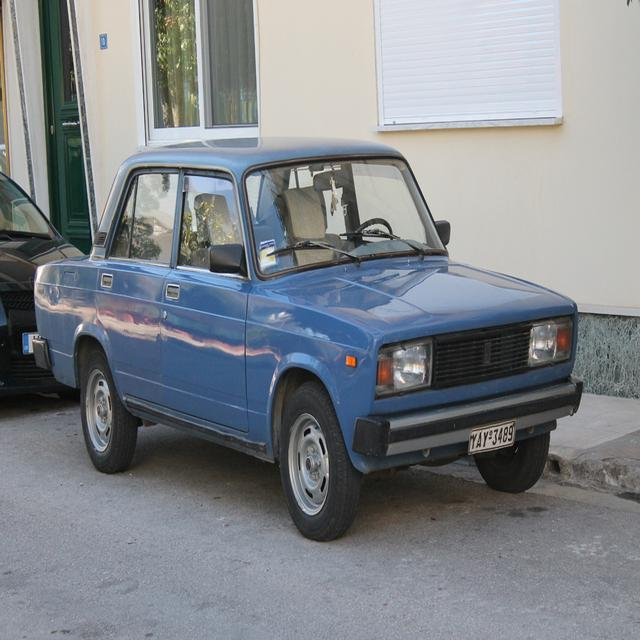Car: (30, 135, 583, 542)
